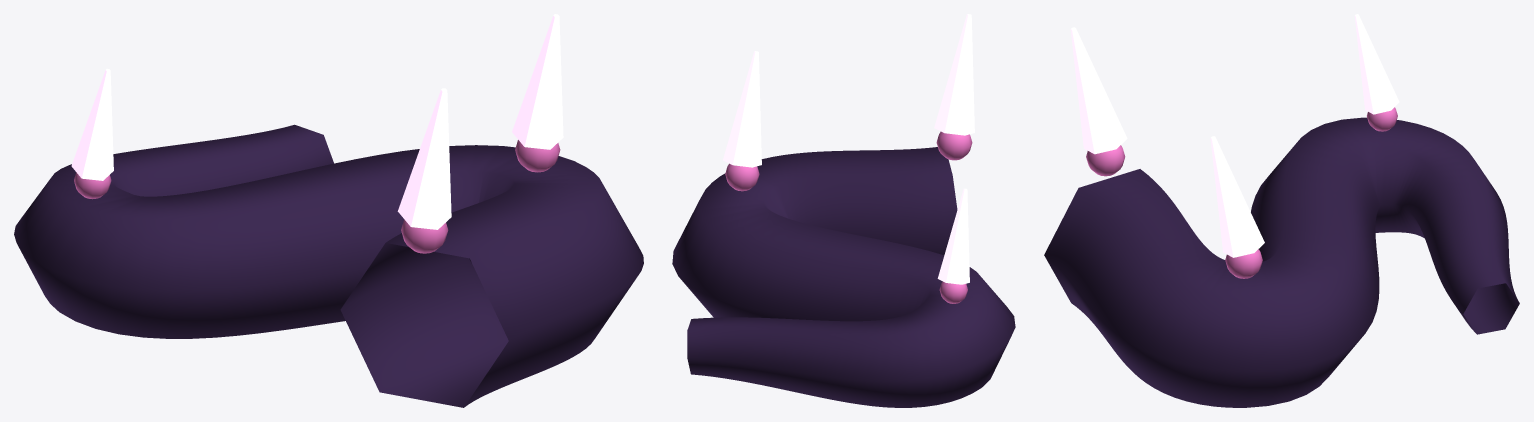
Rendered from SM_Keeper_Apep_Body_F26.fbx.
3 views of the same model, side by side, from view 1: azimuth 30°, elevation 25°; view 2: azimuth 150°, elevation 25°; view 3: azimuth 270°, elevation 25° (orthographic). The views are drawn at different scales.
Parts seen in each view (by area): view 1: SM_Keeper_Apep_Body_F26; view 2: SM_Keeper_Apep_Body_F26; view 3: SM_Keeper_Apep_Body_F26.
Boxes of the visible parts, x1,y1,x2,y2 form: SM_Keeper_Apep_Body_F26: [14, 14, 643, 407]; SM_Keeper_Apep_Body_F26: [672, 14, 1015, 407]; SM_Keeper_Apep_Body_F26: [1044, 14, 1519, 407].
Size of the model in its own units: 6.56 by 4.37 by 6.54.
